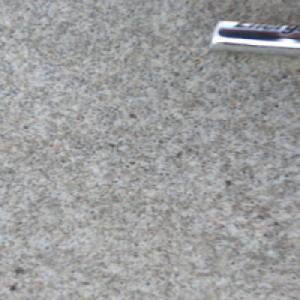Battery: (203, 18, 300, 57)
